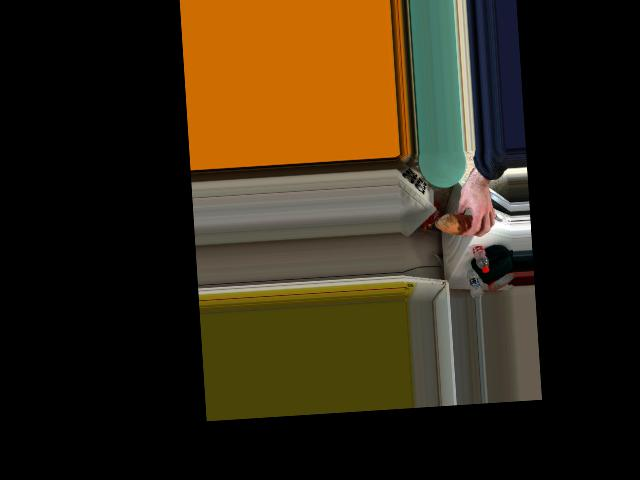sweet_potato: (445, 207, 480, 234)
